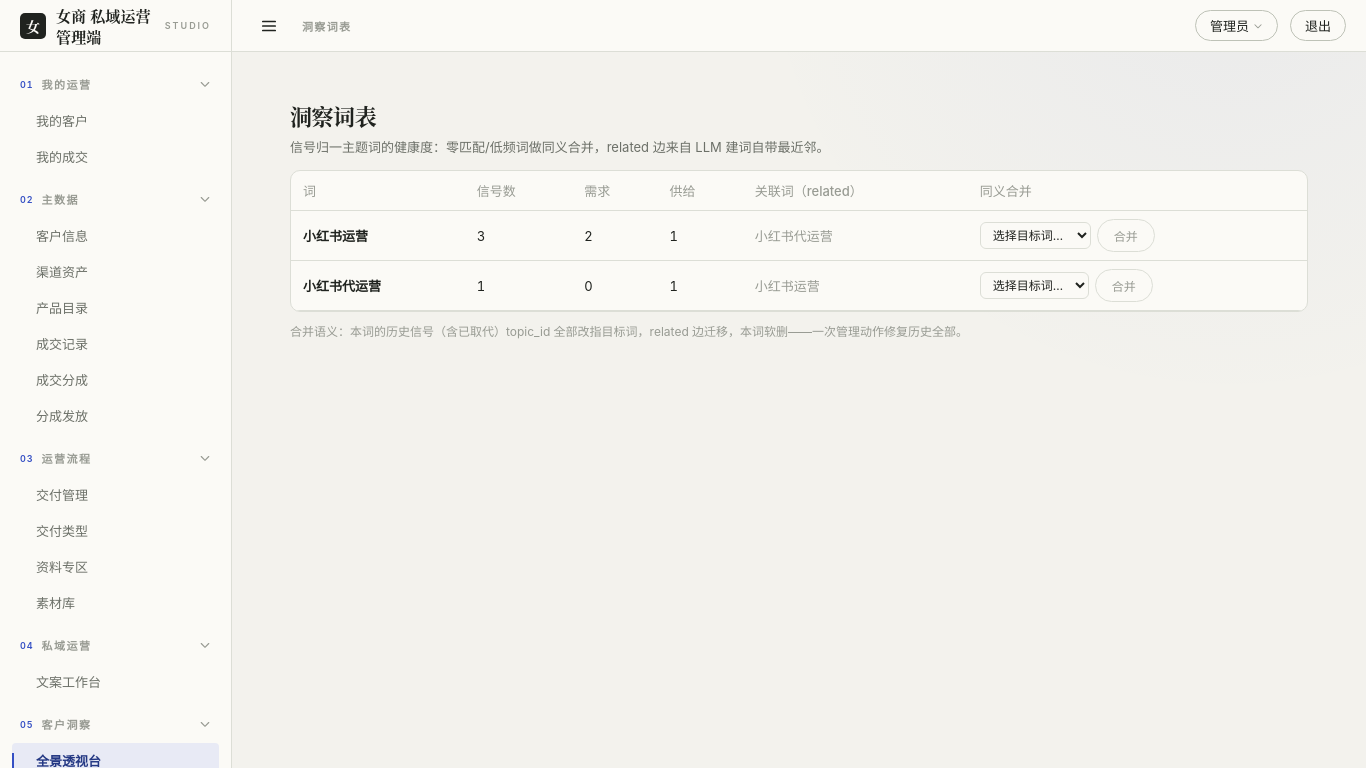
it: 洞察词表 › 健康度表格 + related 边 + 同义合并操作成功提示
The image size is (1366, 768).
Expected: the 1st text "小红书代运营" is shown, [743,210,968,260]
// 选目标词并合并（每行各有一个合并按钮，取第二个非禁用的）
Select "小红书运营" in the dropdown named "合并 小红书代运营 到" at (1034, 286), box [980,272,1089,299]
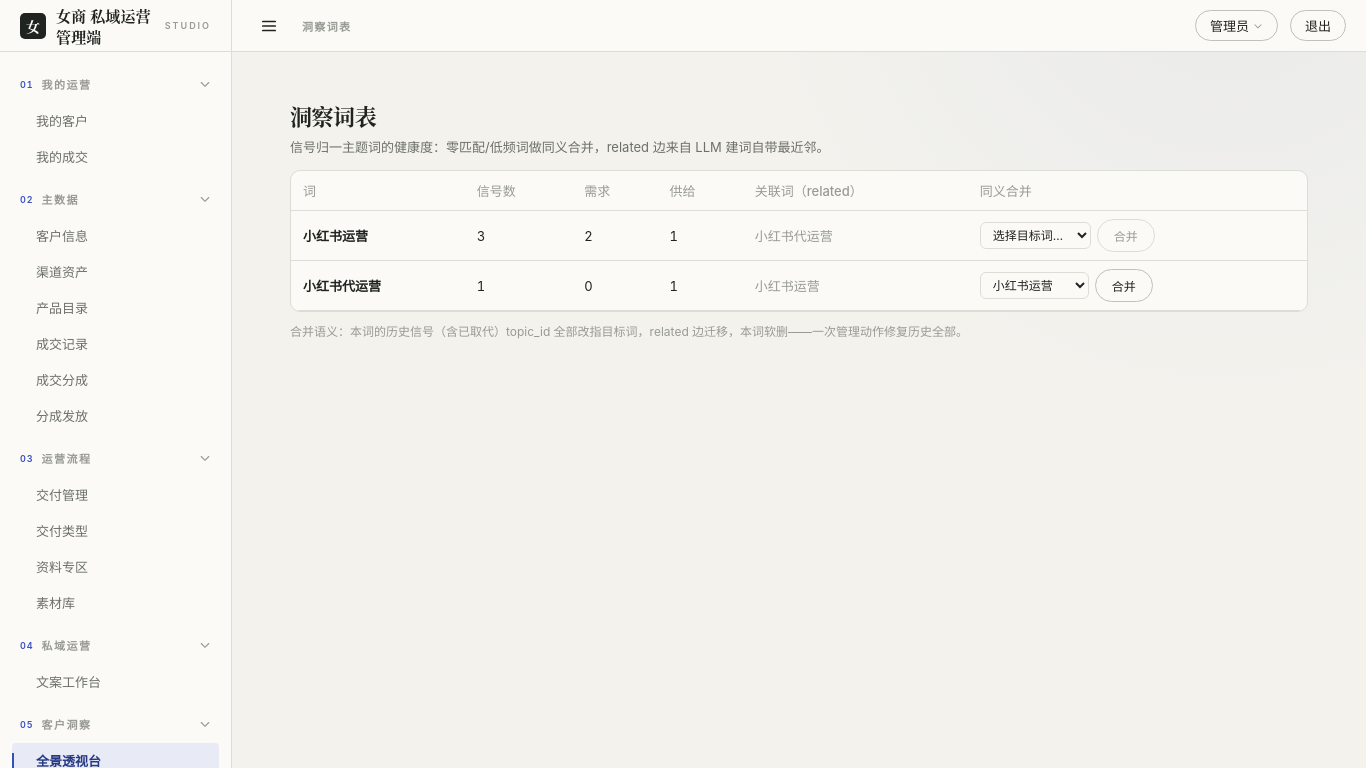
Click the 2nd button "合并" at (1124, 286), box [1095,269,1153,302]
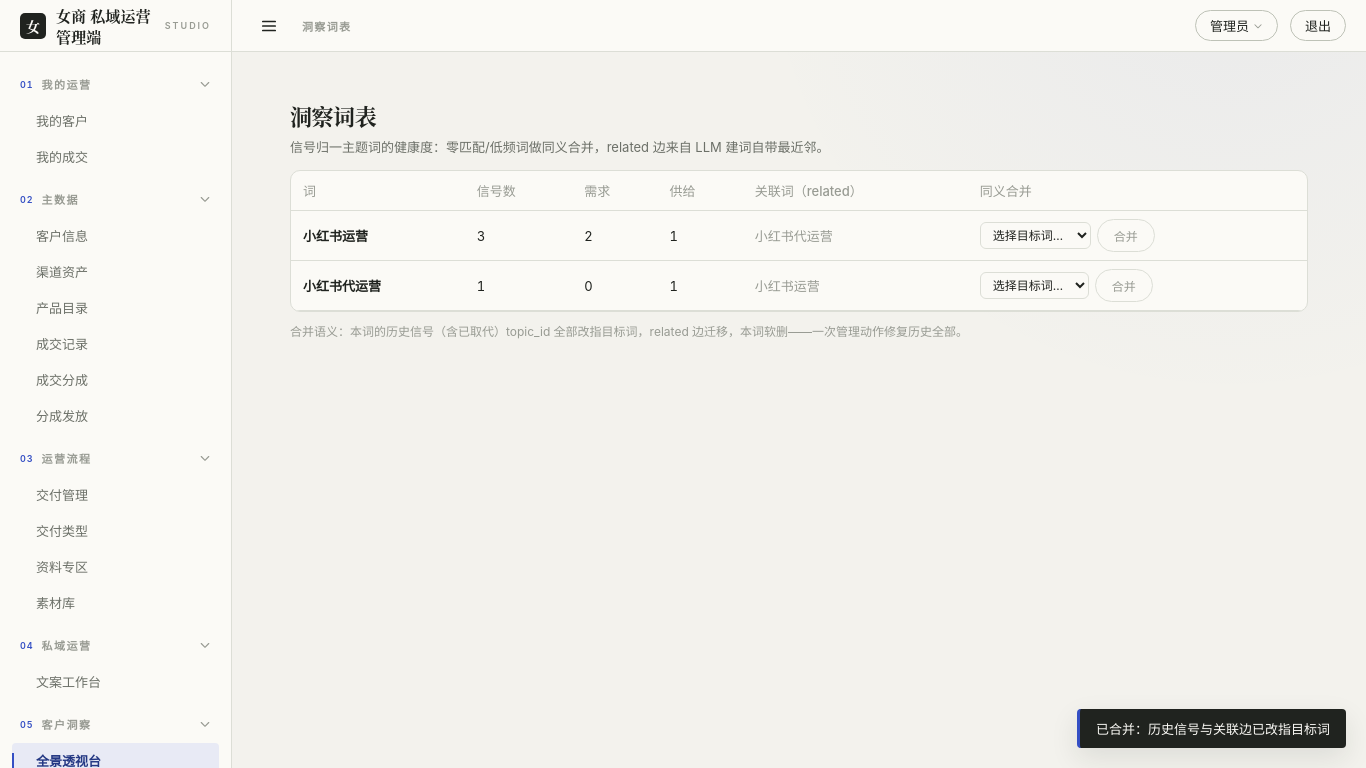
Now the text "已合并：历史信号与关联边已改指目标词" is shown, box [1077,709,1346,748]
